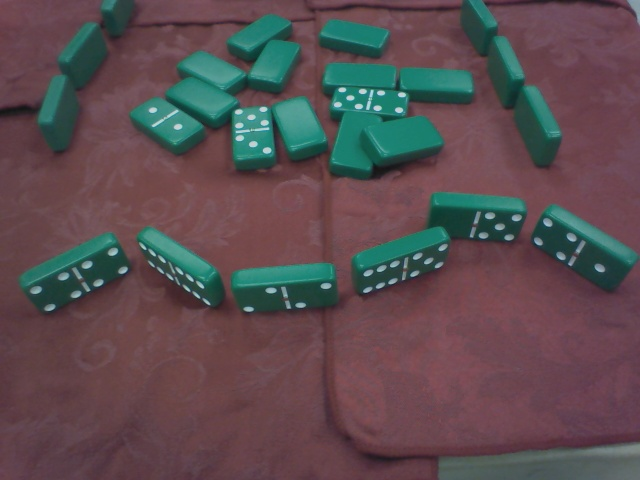A: (165, 78, 238, 126), (273, 97, 328, 157), (368, 119, 443, 162), (333, 109, 377, 179), (228, 14, 296, 53), (176, 53, 245, 91), (248, 40, 299, 89), (321, 19, 387, 54), (402, 64, 470, 97), (323, 62, 394, 88)
B: (131, 98, 205, 152), (233, 107, 278, 167), (334, 86, 411, 119)
C: (39, 74, 79, 153), (61, 22, 109, 86), (100, 1, 137, 36)
D: (518, 86, 563, 167), (488, 36, 524, 105), (464, 1, 495, 54)
E: (529, 200, 636, 288), (21, 235, 132, 315), (137, 224, 226, 310), (351, 226, 451, 293), (431, 190, 524, 242), (231, 268, 338, 313)
